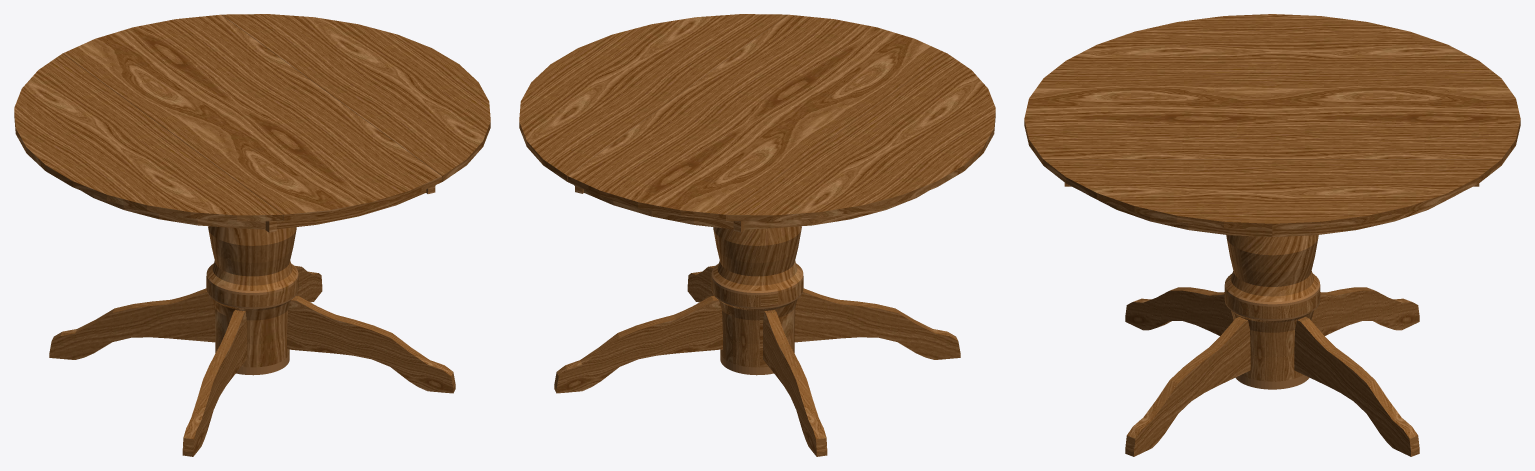
File: b0-oaktable.glb
3 views of the same model, side by side, from view 1: azimuth 30°, elevation 25°; view 2: azimuth 150°, elevation 25°; view 3: azimuth 270°, elevation 25° (orthographic). The views are drawn at different scales.
Visible parts, largest first — view 1: Circle, Cube_Cube.001, Circle.001_Circle.002; view 2: Circle, Cube_Cube.001, Circle.001_Circle.002; view 3: Circle, Cube_Cube.001, Circle.001_Circle.002.
Part boxes in pixels (left/top/right/bottom): Circle: left=14, top=14, right=490, bottom=232; Cube_Cube.001: left=49, top=265, right=455, bottom=456; Circle.001_Circle.002: left=206, top=226, right=298, bottom=375; Circle: left=519, top=14, right=995, bottom=232; Cube_Cube.001: left=554, top=265, right=960, bottom=456; Circle.001_Circle.002: left=711, top=226, right=803, bottom=375; Circle: left=1024, top=14, right=1520, bottom=236; Cube_Cube.001: left=1125, top=287, right=1419, bottom=456; Circle.001_Circle.002: left=1224, top=235, right=1320, bottom=389.
Bounding box in the file's own units: 1.24 × 0.741 × 1.24.
Materials: 1 (1 with a texture image).
